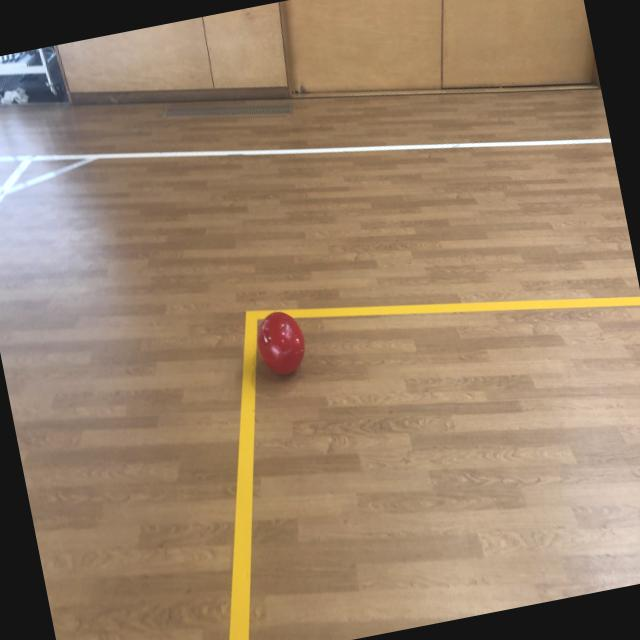red_ball: (254, 308, 311, 380)
